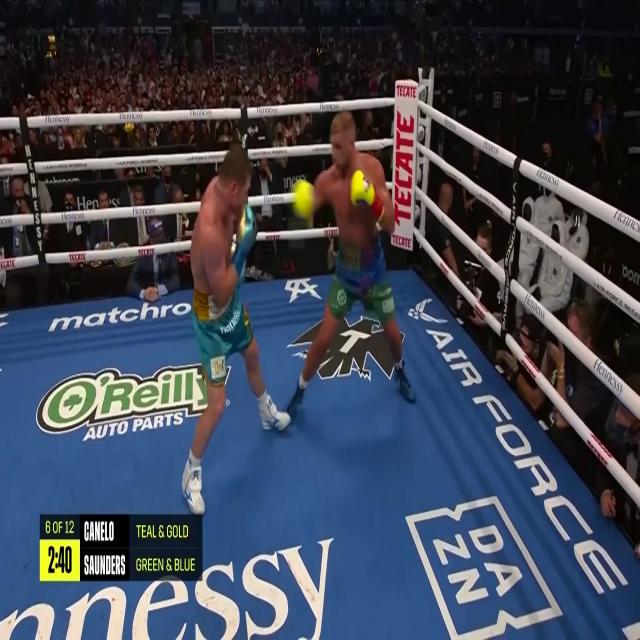boxer_1: (328, 111, 379, 248)
boxer_2: (189, 142, 253, 294)
gloves_1: (351, 169, 385, 224), (294, 180, 313, 219)
gloves_2: (229, 206, 258, 287)
